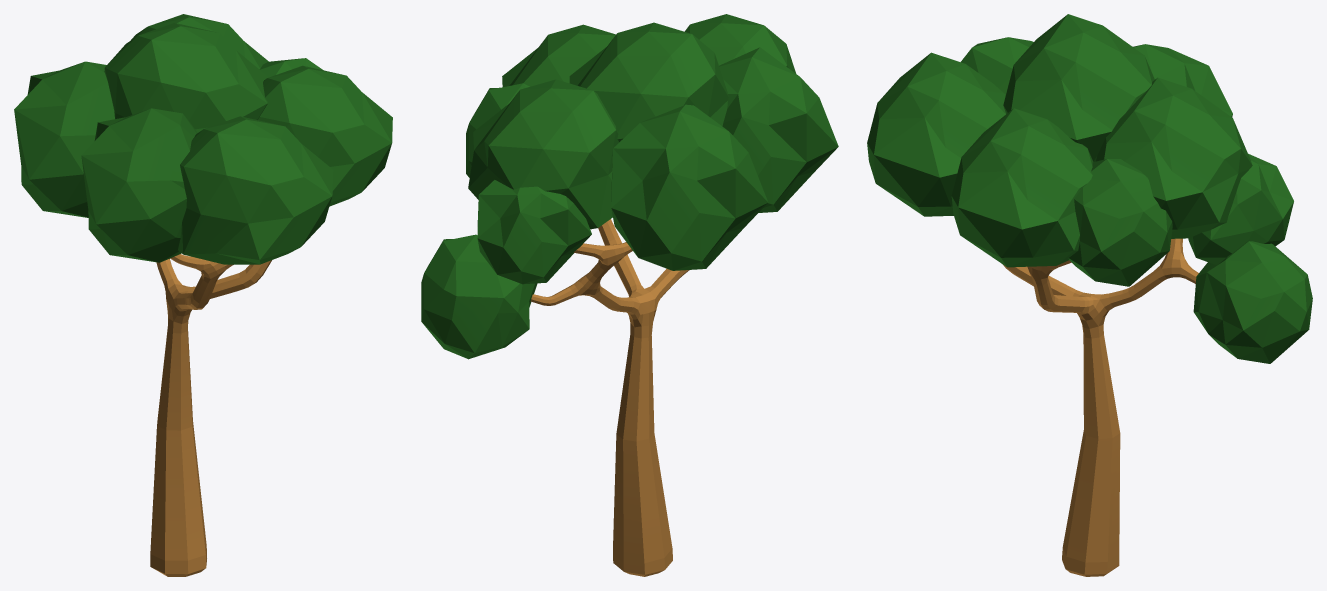
The model's file is tree.168_lev4.glb.
3 views of the same model, side by side, from view 1: azimuth 30°, elevation 25°; view 2: azimuth 150°, elevation 25°; view 3: azimuth 270°, elevation 25° (orthographic). The views are drawn at different scales.
Visible parts, largest first — view 1: tree.168_lev4; view 2: tree.168_lev4; view 3: tree.168_lev4.
Boxes of the visible parts, x1=… form: tree.168_lev4: x1=14, y1=14, x2=392, y2=576; tree.168_lev4: x1=421, y1=14, x2=838, y2=576; tree.168_lev4: x1=867, y1=14, x2=1312, y2=576.
Bounding box in the file's own units: 0.6145 × 1 × 0.755.
